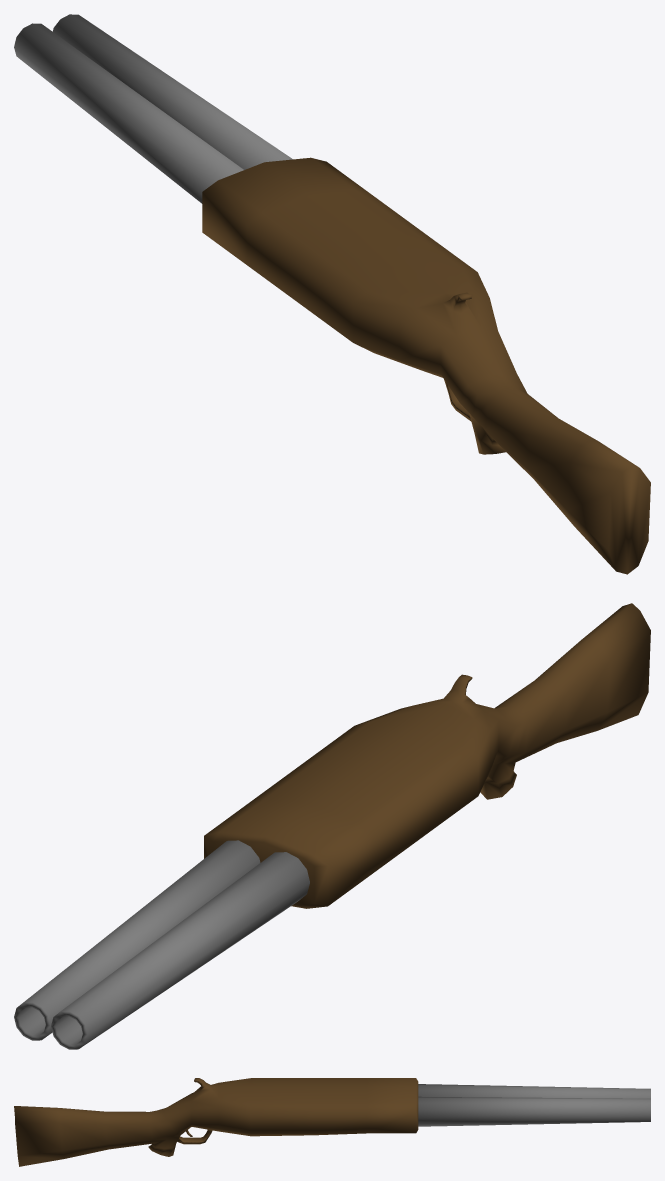
Rendered from bigboomer.fbx.
3 views of the same model, one above another, from view 1: azimuth 30°, elevation 25°; view 2: azimuth 150°, elevation 25°; view 3: azimuth 270°, elevation 25° (orthographic). The views are drawn at different scales.
Visible parts, largest first — view 1: Cube, Cylinder; view 2: Cube, Cylinder; view 3: Cube, Cylinder.
Boxes of the visible parts, box(x1,y1,x2,y2) form: Cube: box(202, 157, 650, 574); Cylinder: box(14, 14, 292, 203); Cube: box(204, 603, 650, 908); Cylinder: box(14, 840, 309, 1049); Cube: box(14, 1078, 418, 1166); Cylinder: box(418, 1084, 650, 1126).
Bounding box in the file's own units: 516 × 635 × 4174.
